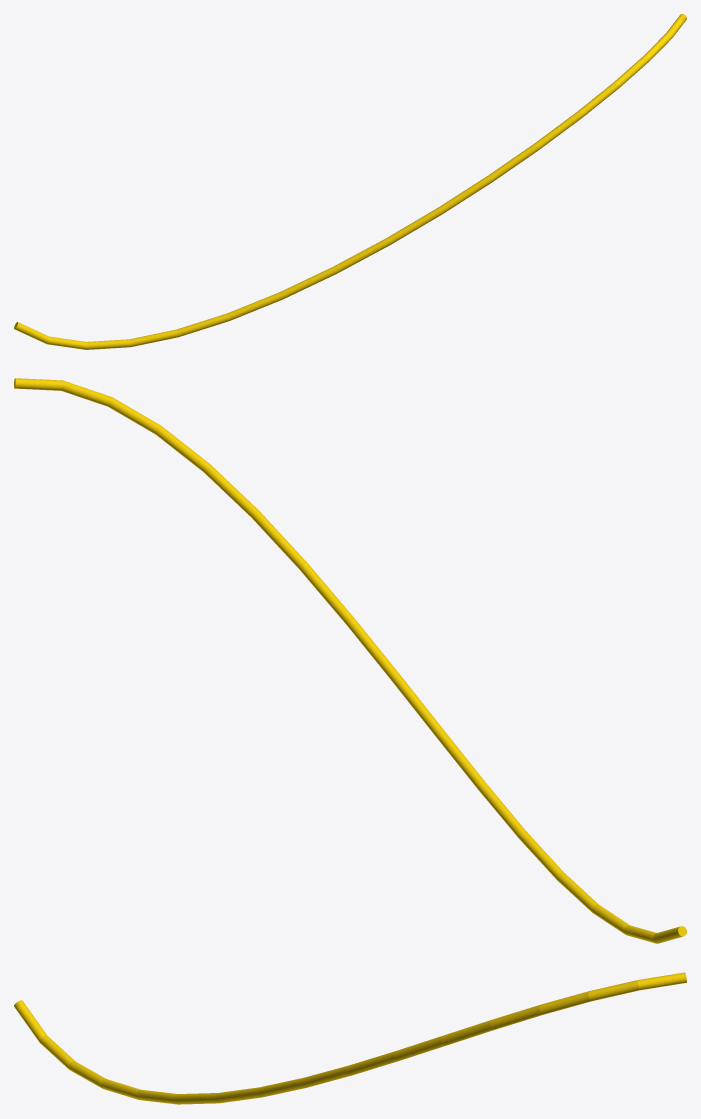
File: Event_421127236_track_42.fbx
3 views of the same model, one above another, from view 1: azimuth 30°, elevation 25°; view 2: azimuth 150°, elevation 25°; view 3: azimuth 330°, elevation 25° (orthographic). The views are drawn at different scales.
Visible parts, largest first — view 1: Model; view 2: Model; view 3: Model.
Boxes of the visible parts, x1,y1,x2,y2 form: Model: (14,14,686,349); Model: (14,378,686,943); Model: (14,972,686,1104).
Bounding box in the file's own units: 3.4 × 1.37 × 1.02.
